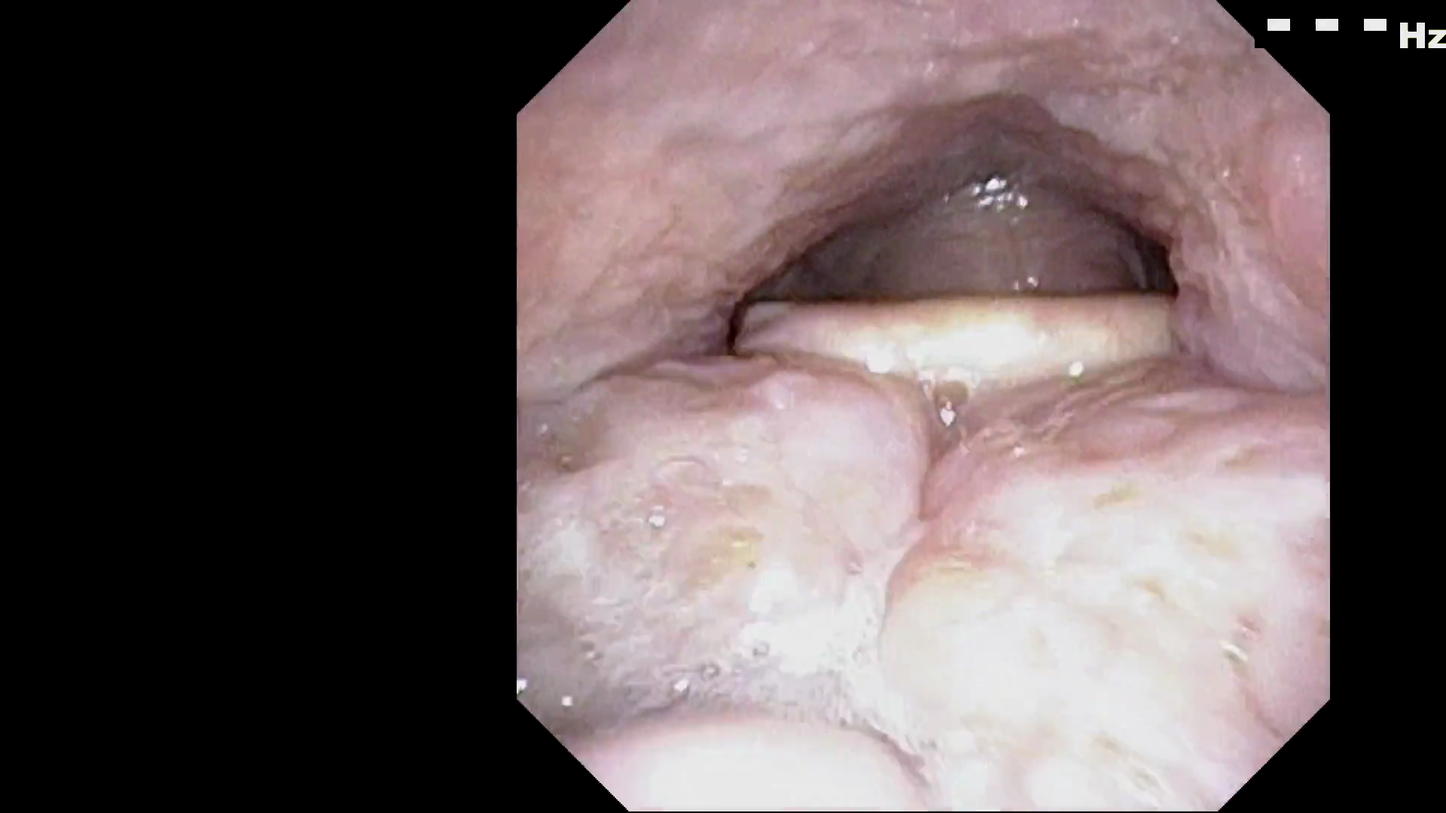epiglottis: (699, 257, 1254, 502)
trachea: (885, 192, 1045, 383)
